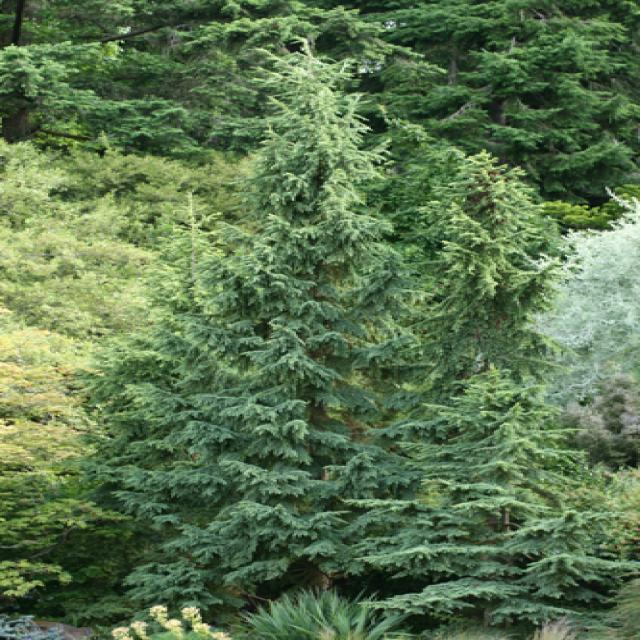Tsuga mertensiana: (98, 35, 430, 640)
